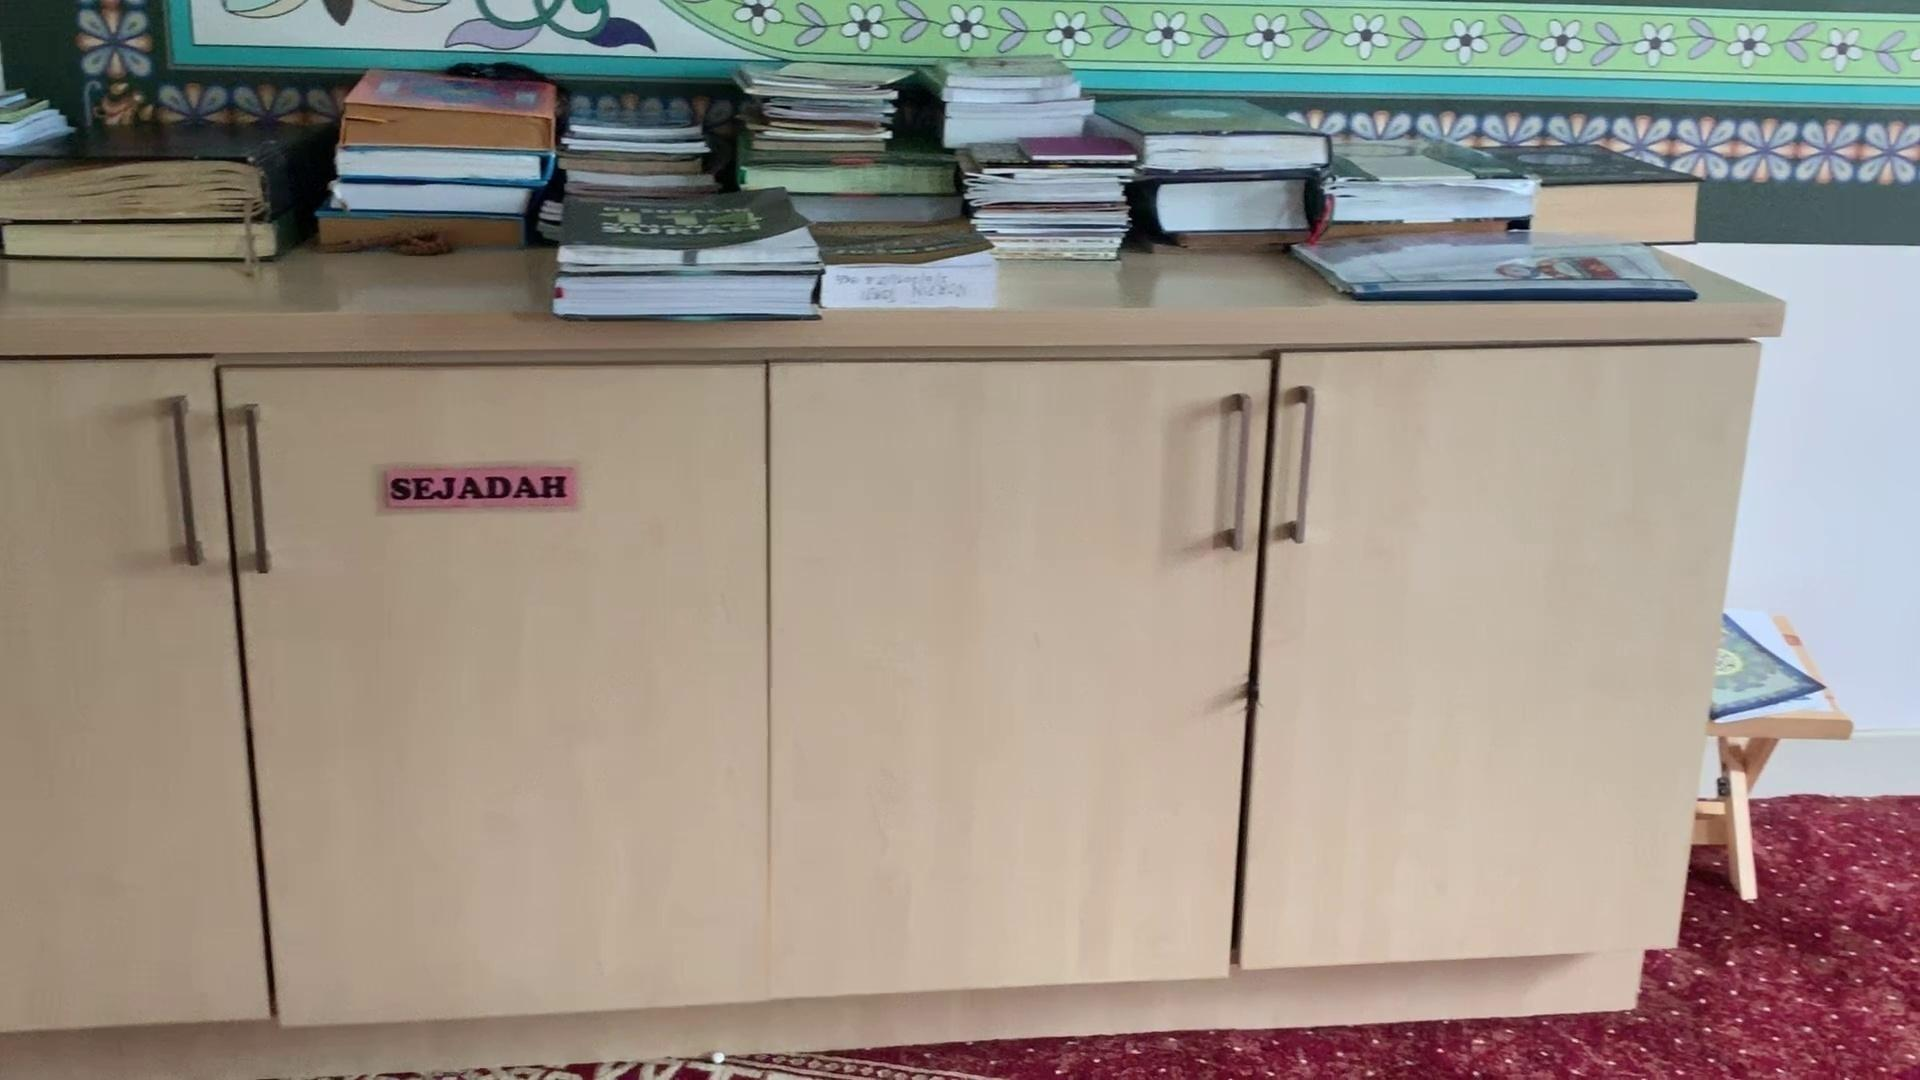cabinet_door: (244, 364, 767, 1013), (774, 363, 1267, 981), (1253, 368, 1709, 973), (0, 369, 247, 1036)
handle: (1197, 392, 1265, 559), (156, 389, 216, 572), (227, 401, 281, 578), (1273, 381, 1329, 545)
